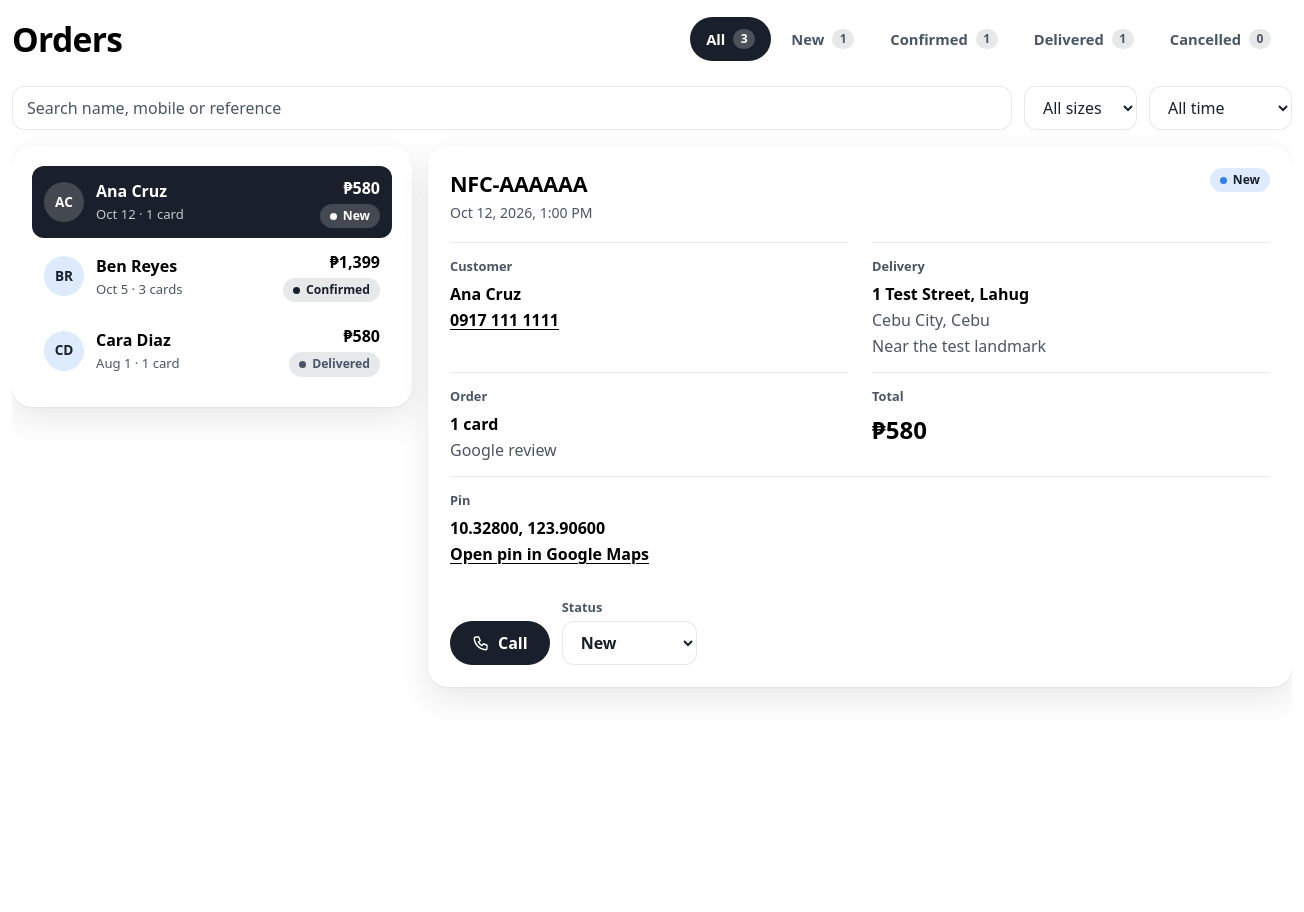
Test: OrdersPage › tells the admin when the status could not be changed
The image size is (1304, 912).
Select "Delivered" in the dropdown labelled "Status" at x=629, y=643, box [562,621,697,665]
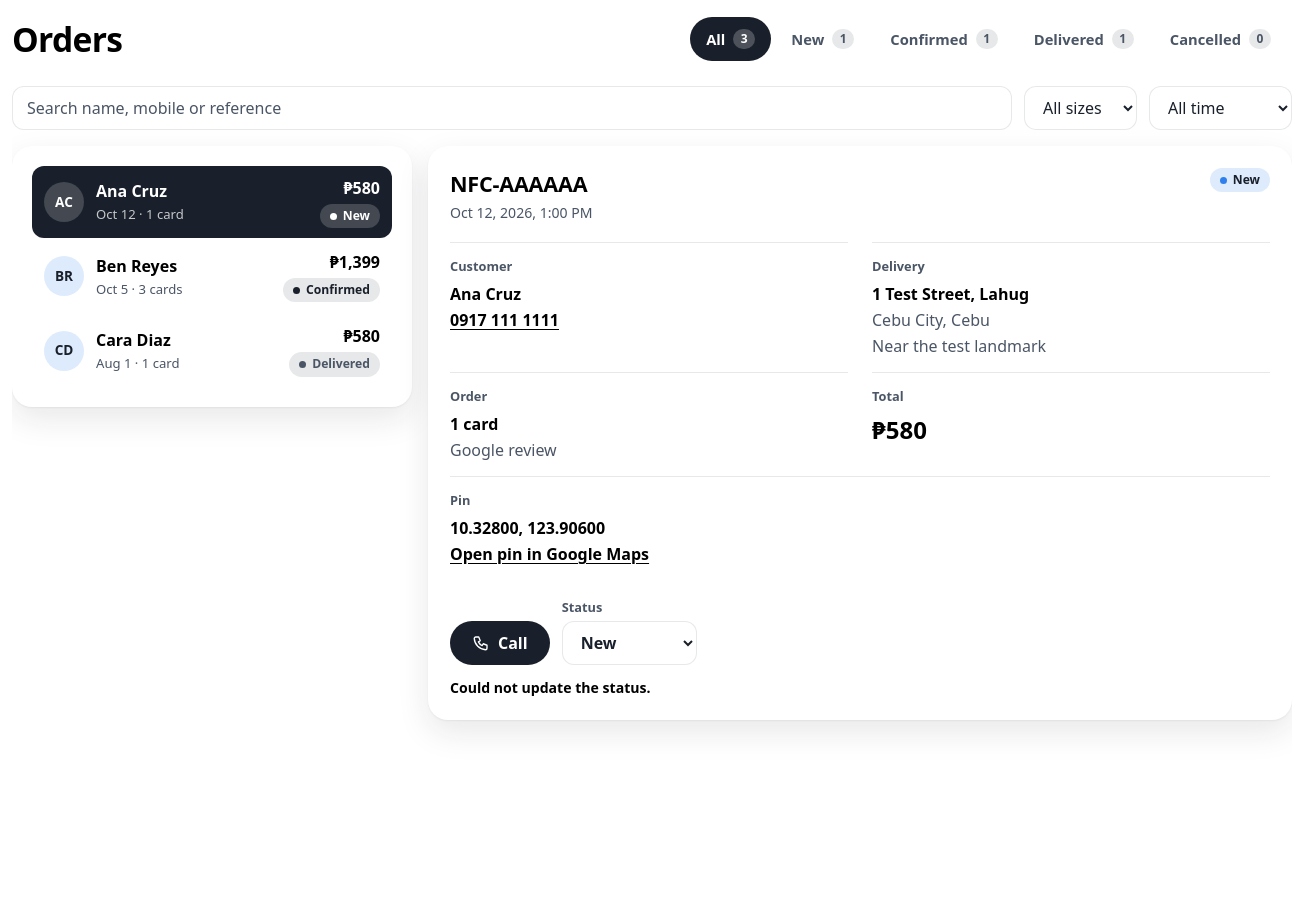
Result: the message reads "Could not update the status." at [450,678,650,697]
